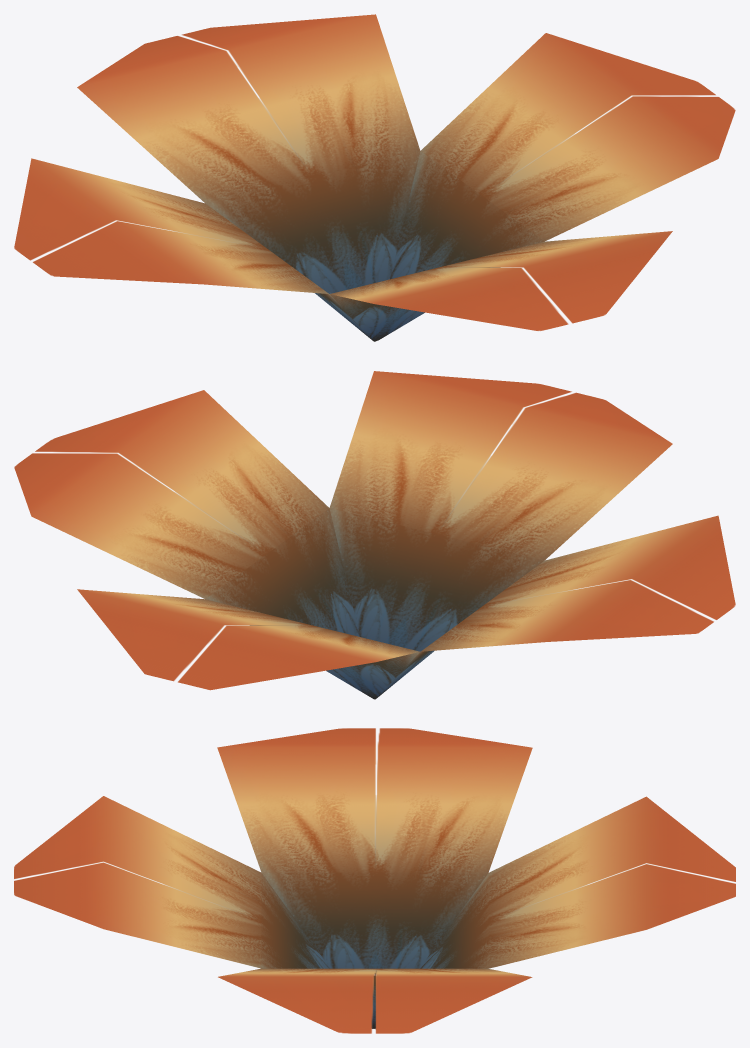
File: stylized_flowers_stage2.glb
3 renders of one model, top to bottom at view 1: azimuth 30°, elevation 25°; view 2: azimuth 150°, elevation 25°; view 3: azimuth 270°, elevation 25°, orthographic. The views are drawn at different scales.
Visible parts, largest first — view 1: Stage2; view 2: Stage2; view 3: Stage2.
Part boxes in pixels (x1,y1,x2,y2): Stage2: [14, 14, 735, 341]; Stage2: [14, 371, 735, 699]; Stage2: [14, 728, 735, 1033].
Bounding box in the file's own units: 2.14 × 0.556 × 2.14.
Materials: 1 (1 with a texture image).
